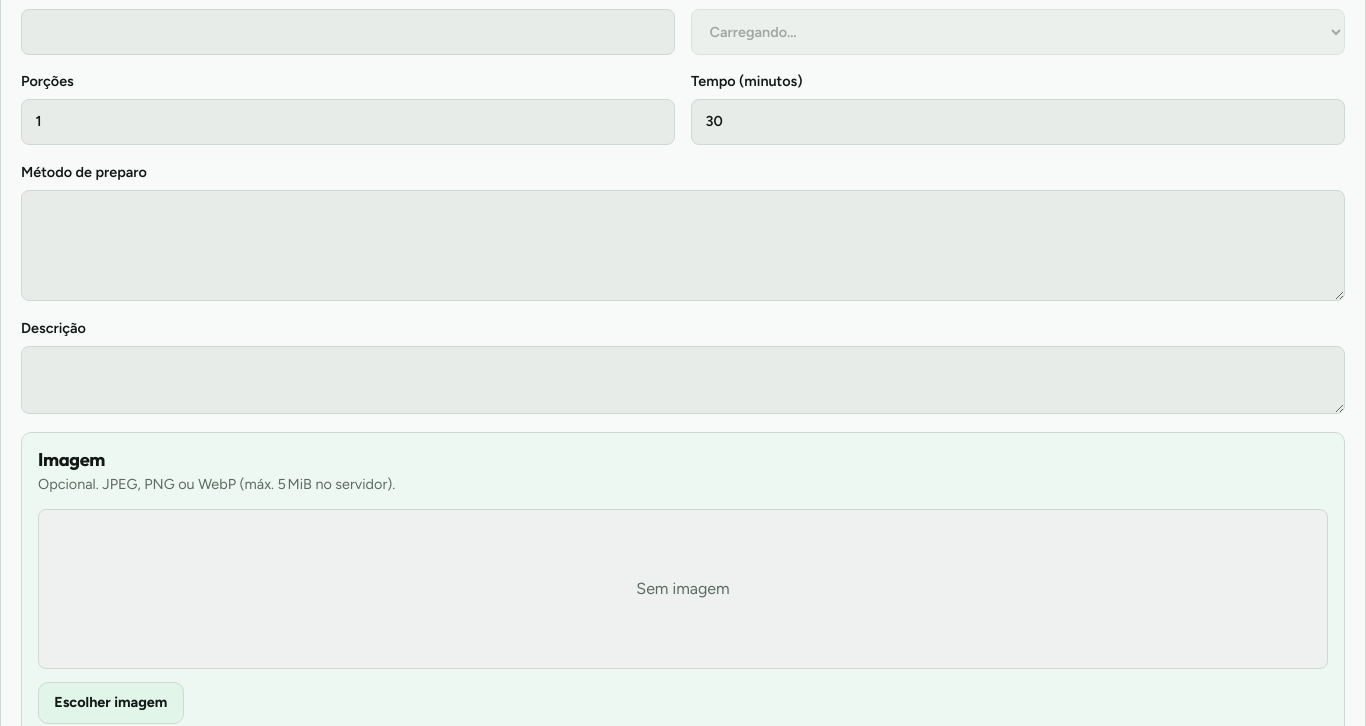
userId da sessão no formulário de receita (RF-UI-API-16) › bloqueia com warning quando userId da sessão é null
Type "Risoto" into the field labelled "Nome" at (348, 32), box [21, 9, 675, 55]
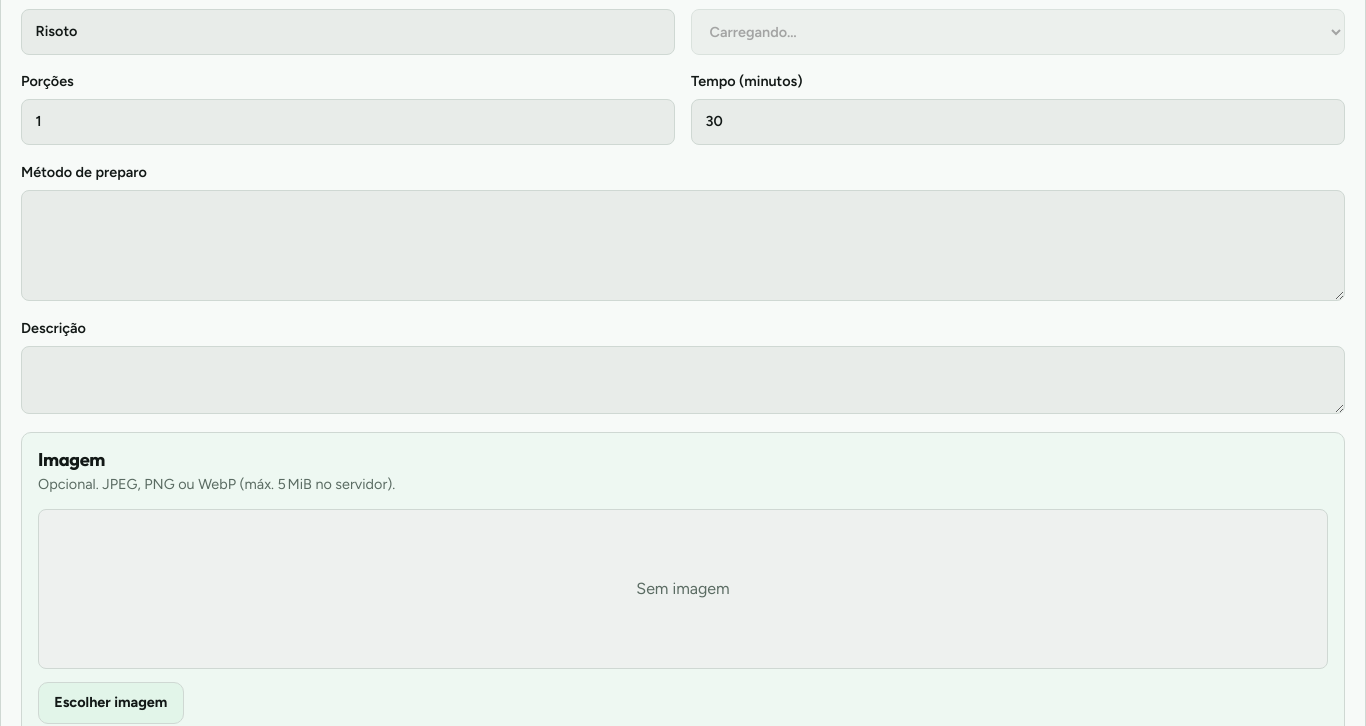
Type "Mexer sempre" into the text box labelled "Método de preparo" at (683, 245), box [21, 190, 1345, 301]
(page scrolled)
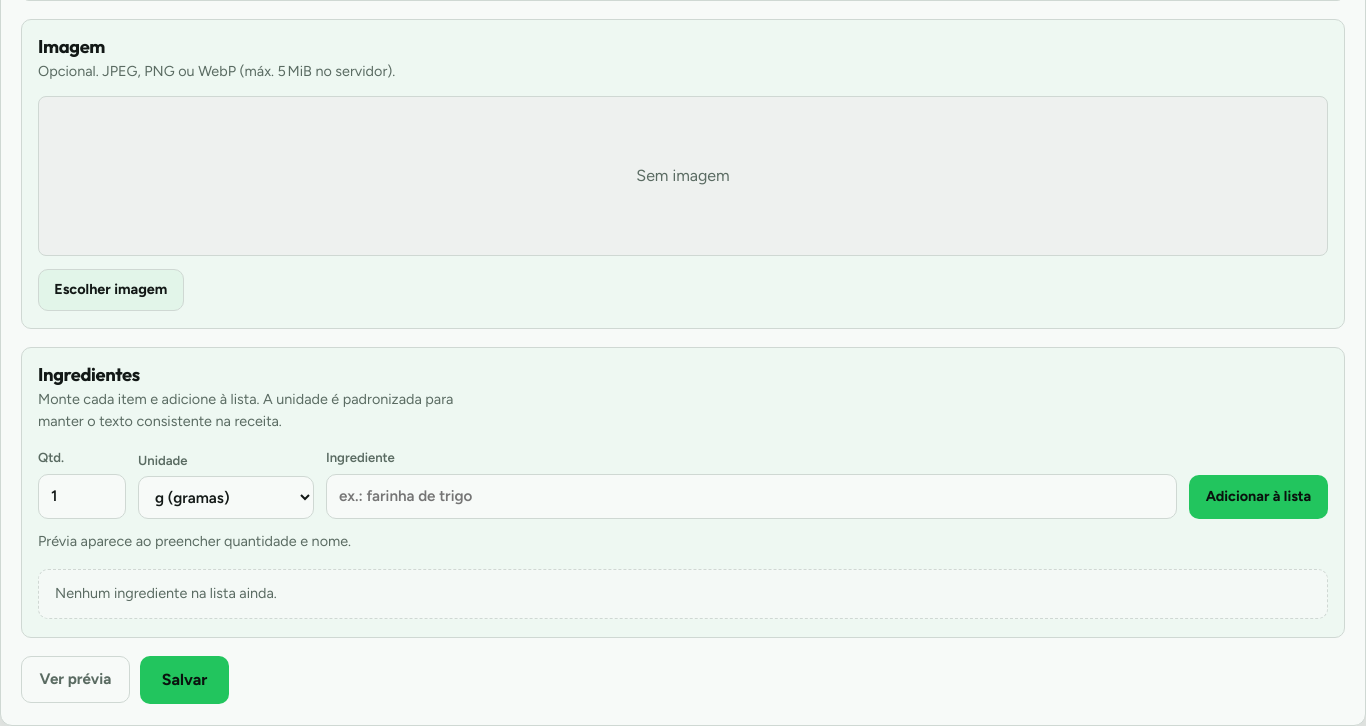
Type "arroz" into the field named "Nome do ingrediente" at (751, 496), box [326, 474, 1177, 519]
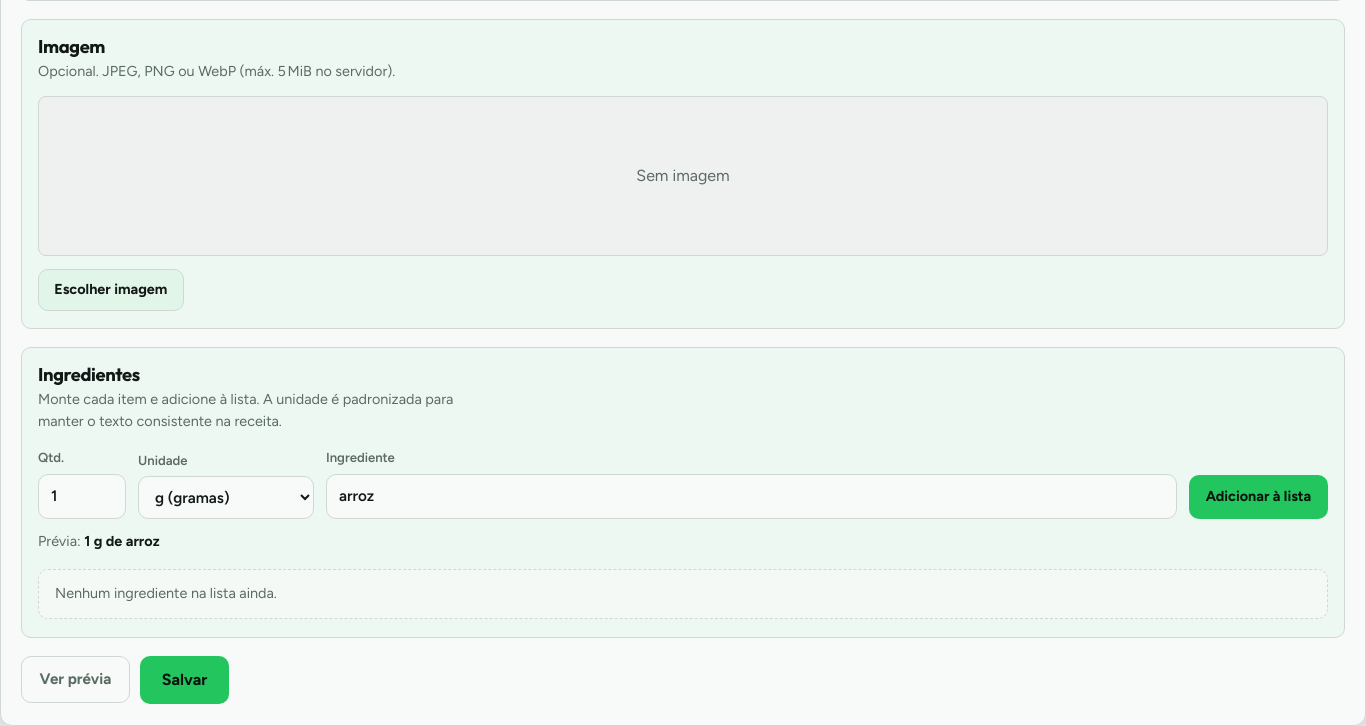
Click the button "Adicionar à lista" at (1258, 497), box [1189, 475, 1328, 519]
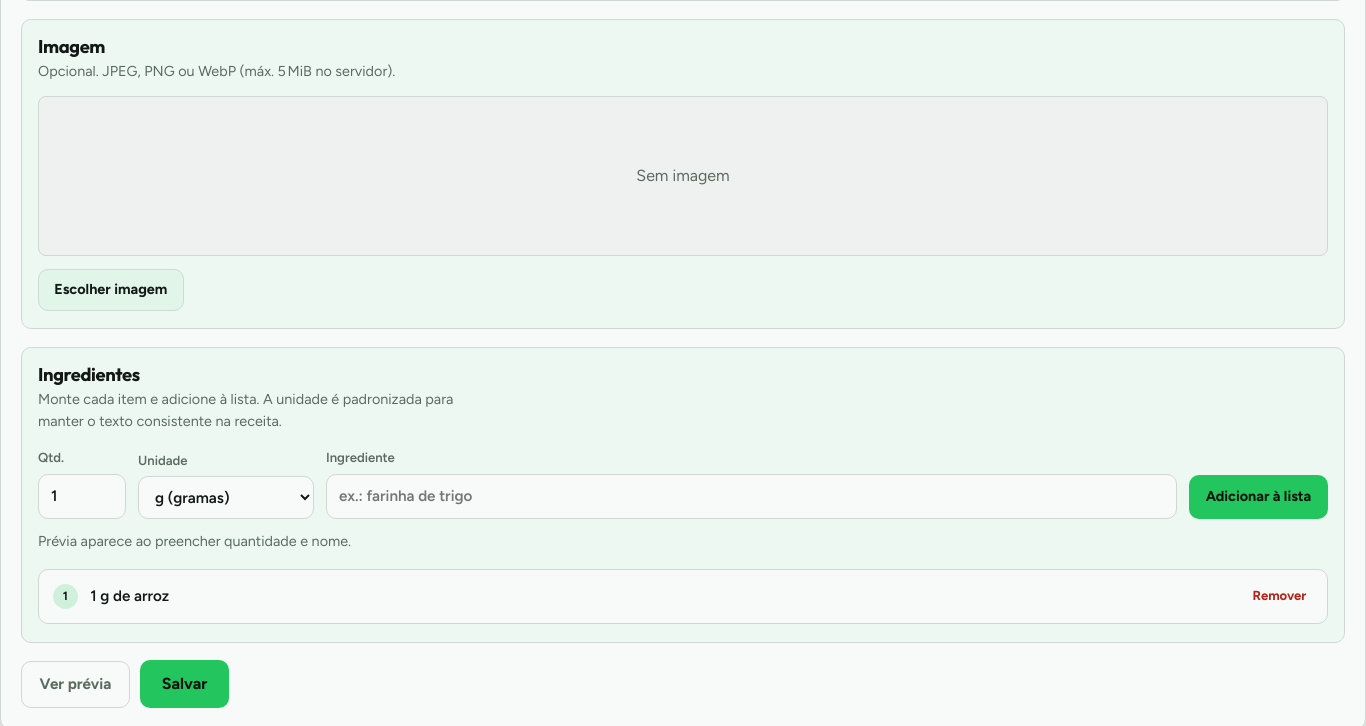
Click the button "Salvar" at (185, 684), box [140, 660, 229, 708]
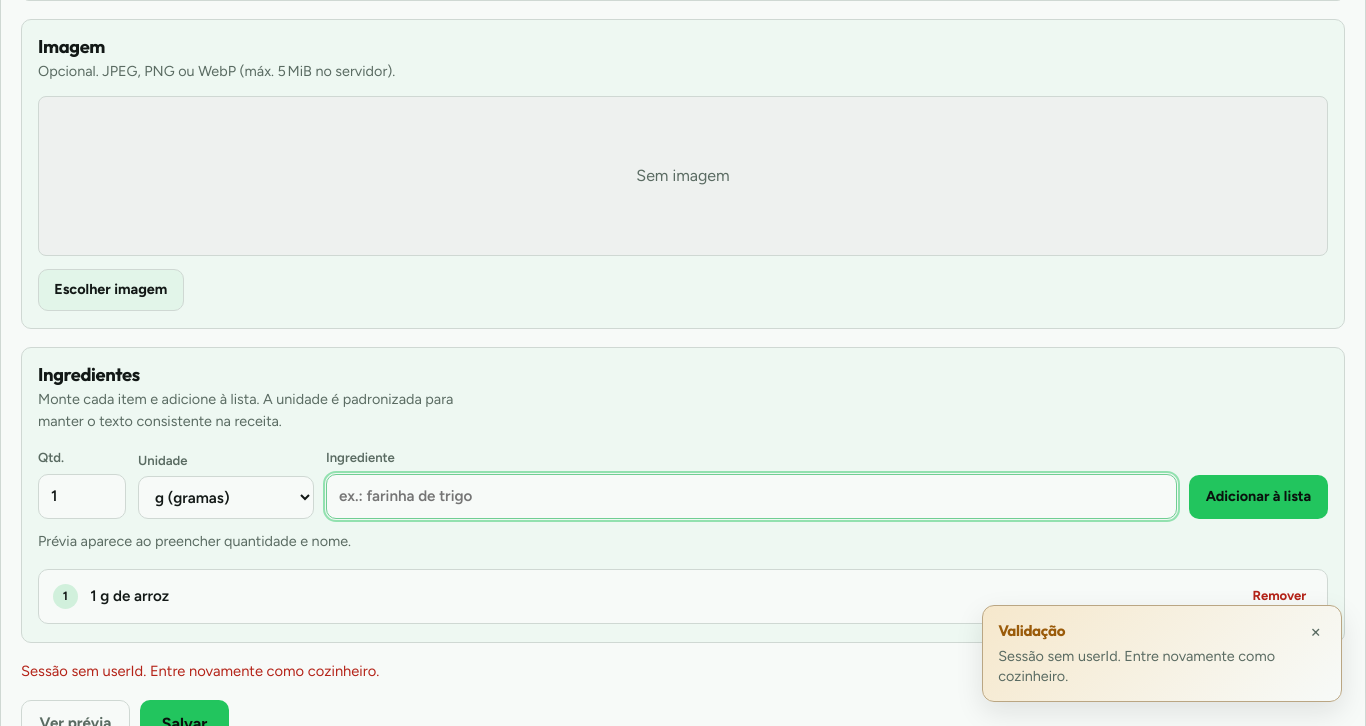
Expected: the text "Sessão sem userId. Entre novamente como cozinheiro." below "1 g de arroz" is shown, [21, 662, 379, 680]
